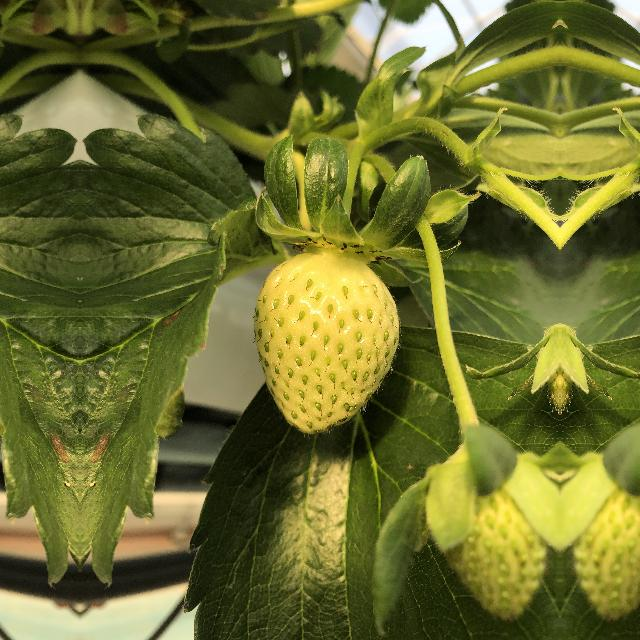Health_25: (248, 245, 402, 455), (436, 462, 552, 620), (568, 461, 640, 620)
